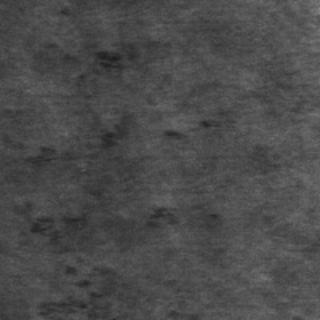rolled pit: (26, 115, 130, 315), (31, 42, 131, 82)
